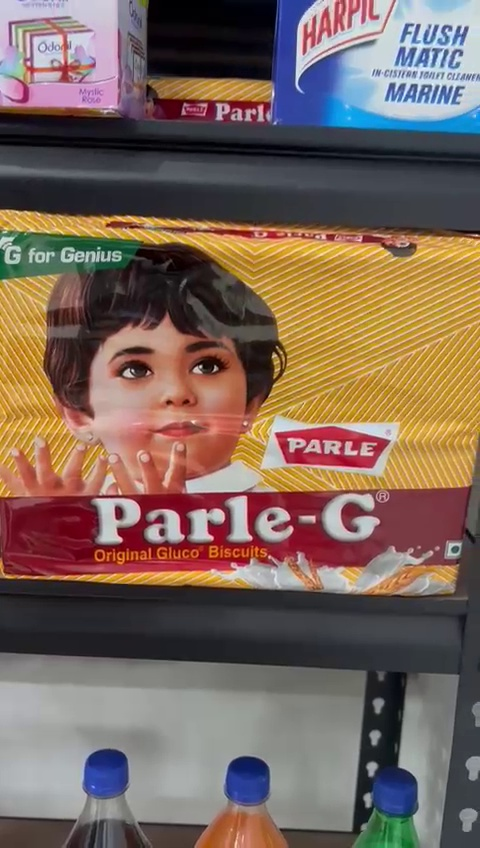Parle-G: (0, 212, 480, 605)
